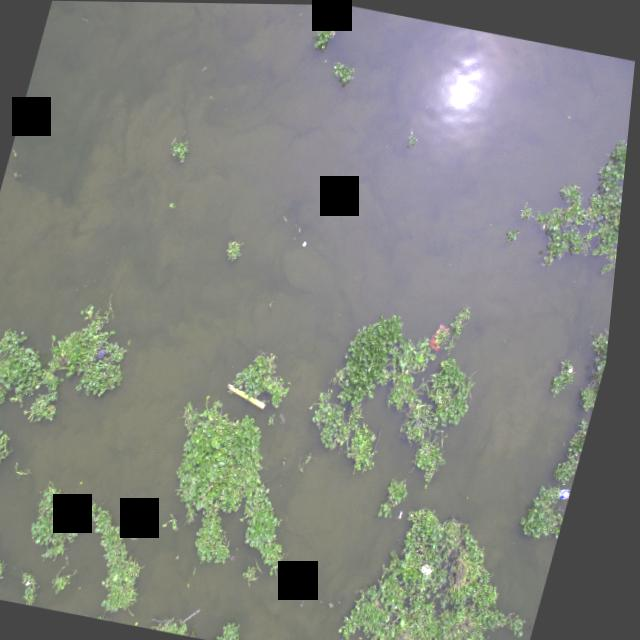plastic: (229, 377, 281, 412), (560, 483, 581, 502), (429, 561, 448, 579), (569, 360, 586, 377), (302, 234, 317, 250), (284, 410, 297, 424), (102, 346, 113, 359), (406, 507, 416, 518), (35, 580, 44, 587)
